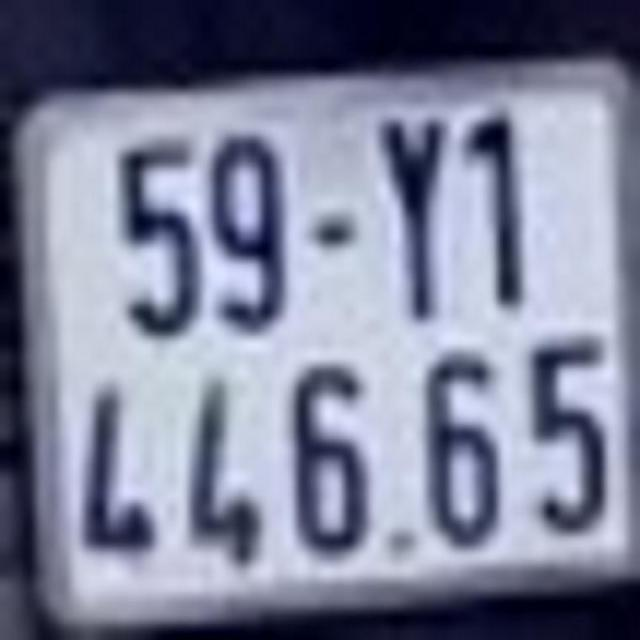1: (462, 102, 533, 308)
4: (184, 368, 264, 589), (82, 373, 158, 586)
5: (112, 132, 200, 338), (534, 337, 612, 537)
6: (424, 344, 507, 546), (290, 354, 372, 557)
9: (208, 126, 286, 338)
Y: (378, 105, 455, 321)
